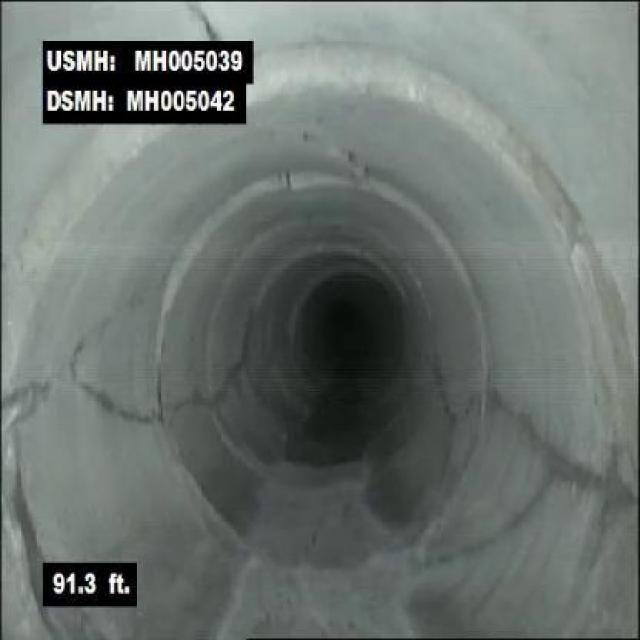Buckling: (300, 129, 357, 180)
Crack: (68, 289, 158, 426), (432, 489, 548, 568), (551, 456, 635, 512), (8, 369, 55, 426), (188, 4, 222, 36)
Joint offset: (548, 149, 632, 380), (278, 39, 497, 123), (12, 132, 96, 268), (200, 177, 272, 228)
